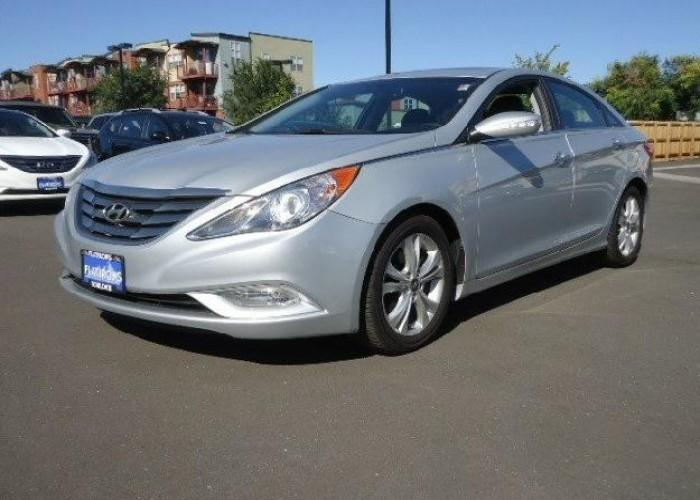Sedan: (53, 65, 654, 355)
